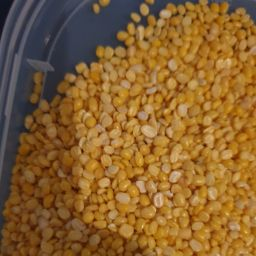Red Split Lentils(malka masar): (46, 8, 256, 256), (14, 75, 155, 256), (101, 51, 214, 220)
